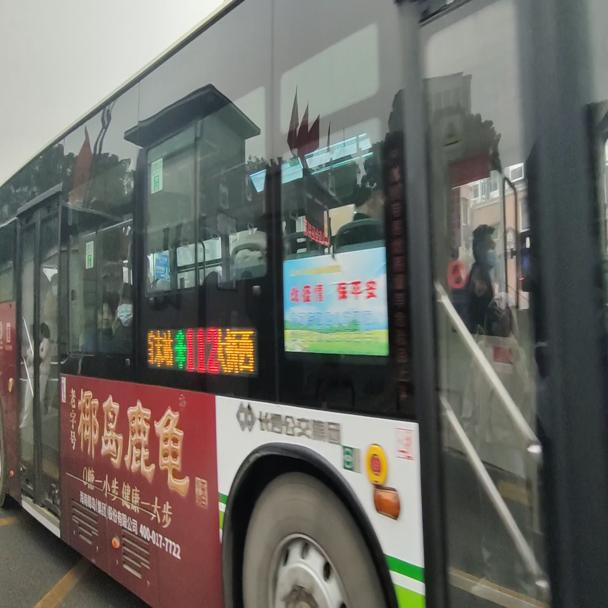bus: (0, 5, 601, 598)
screen: (182, 328, 216, 373)
